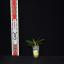leaf: (35, 35, 42, 44), (36, 39, 45, 45), (26, 40, 35, 44), (27, 43, 35, 46), (36, 43, 42, 46), (33, 39, 35, 44)
